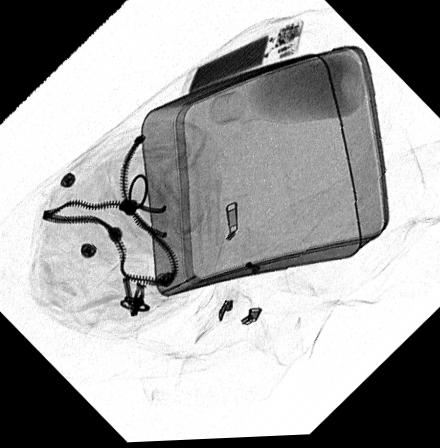Powerbank: (182, 20, 305, 105)
